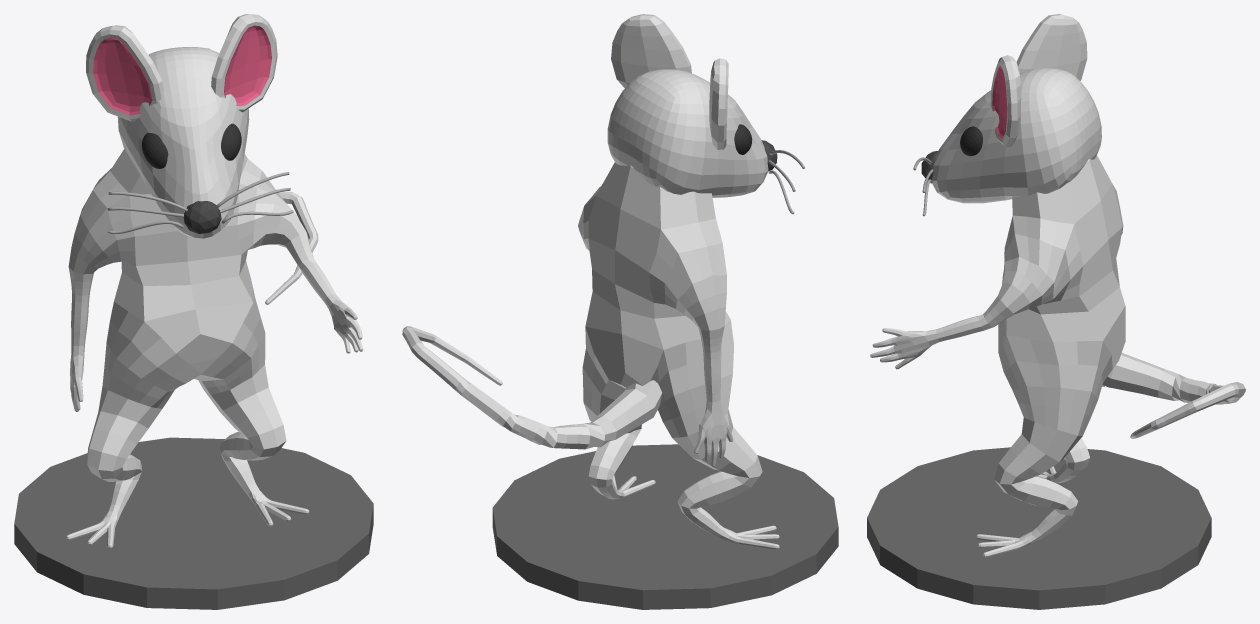
Rendered from Snow.glb.
The picture shows the model from 3 angles, left to right: view 1: azimuth 30°, elevation 25°; view 2: azimuth 150°, elevation 25°; view 3: azimuth 270°, elevation 25°; orthographic projection. The views are drawn at different scales.
Visible parts, largest first — view 1: SnowST; view 2: SnowST; view 3: SnowST.
Boxes of the visible parts, box(x1,y1,x2,y2) form: SnowST: box(14, 14, 373, 609); SnowST: box(402, 14, 838, 609); SnowST: box(867, 14, 1245, 609).
Bounding box in the file's own units: 1.27 × 1.82 × 1.26.
